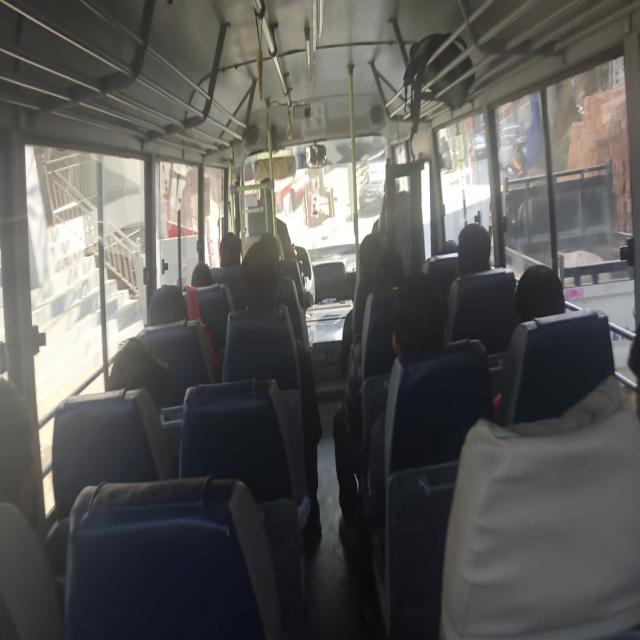person: (0, 372, 42, 519), (388, 274, 446, 368), (508, 256, 572, 324), (108, 339, 170, 400), (241, 235, 273, 308), (147, 279, 191, 331), (459, 217, 493, 275), (373, 242, 408, 291), (216, 226, 246, 270), (355, 226, 383, 270), (189, 250, 216, 292), (258, 170, 280, 212), (262, 224, 285, 262), (380, 172, 404, 200), (436, 234, 460, 258)
